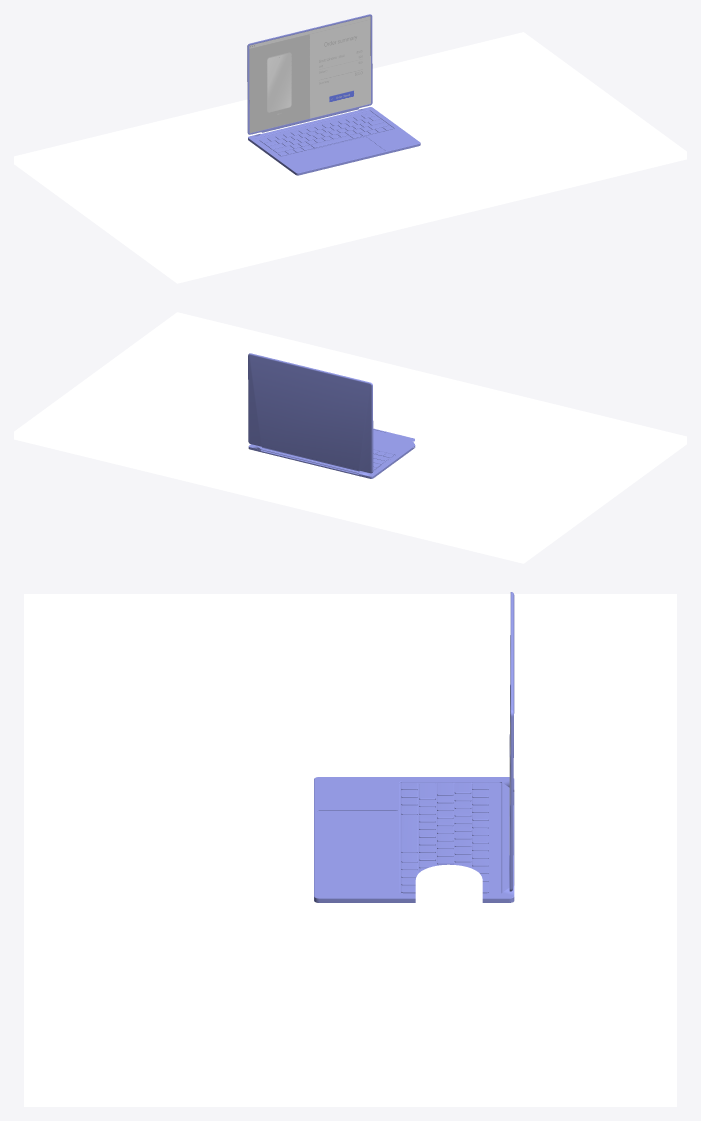
The model's file is order-d2c-draco.gltf.
The picture shows the model from 3 angles, top to bottom: view 1: azimuth 30°, elevation 25°; view 2: azimuth 150°, elevation 25°; view 3: azimuth 270°, elevation 25°; orthographic projection. The views are drawn at different scales.
Parts seen in each view (by area): view 1: table.1, screen-final, base, buttons, mug.1, screen, cactus, pot; view 2: table.1, screen, base, mug.1, cactus, pot; view 3: table.1, base, buttons, mug.1, cactus, pot, screen.
Boxes of the visible parts, bbox=[...] form: table.1: bbox=[14, 32, 686, 283]; screen-final: bbox=[249, 16, 370, 132]; base: bbox=[248, 107, 420, 175]; buttons: bbox=[259, 112, 393, 156]; mug.1: bbox=[415, 69, 458, 116]; screen: bbox=[247, 14, 372, 134]; cactus: bbox=[209, 117, 243, 144]; pot: bbox=[211, 137, 240, 166]; table.1: bbox=[14, 312, 686, 563]; screen: bbox=[248, 353, 373, 473]; base: bbox=[248, 428, 415, 478]; mug.1: bbox=[195, 385, 236, 433]; cactus: bbox=[413, 428, 447, 456]; pot: bbox=[416, 449, 445, 478]; table.1: bbox=[24, 594, 676, 1106]; base: bbox=[314, 777, 514, 902]; buttons: bbox=[401, 782, 488, 893]; mug.1: bbox=[415, 864, 482, 959]; cactus: bbox=[405, 650, 472, 704]; pot: bbox=[408, 691, 467, 750]; screen: bbox=[509, 592, 514, 891].
Bounding box in the file's own units: 13.93 × 2.7 × 7.73.
4 materials, 2 textured.
